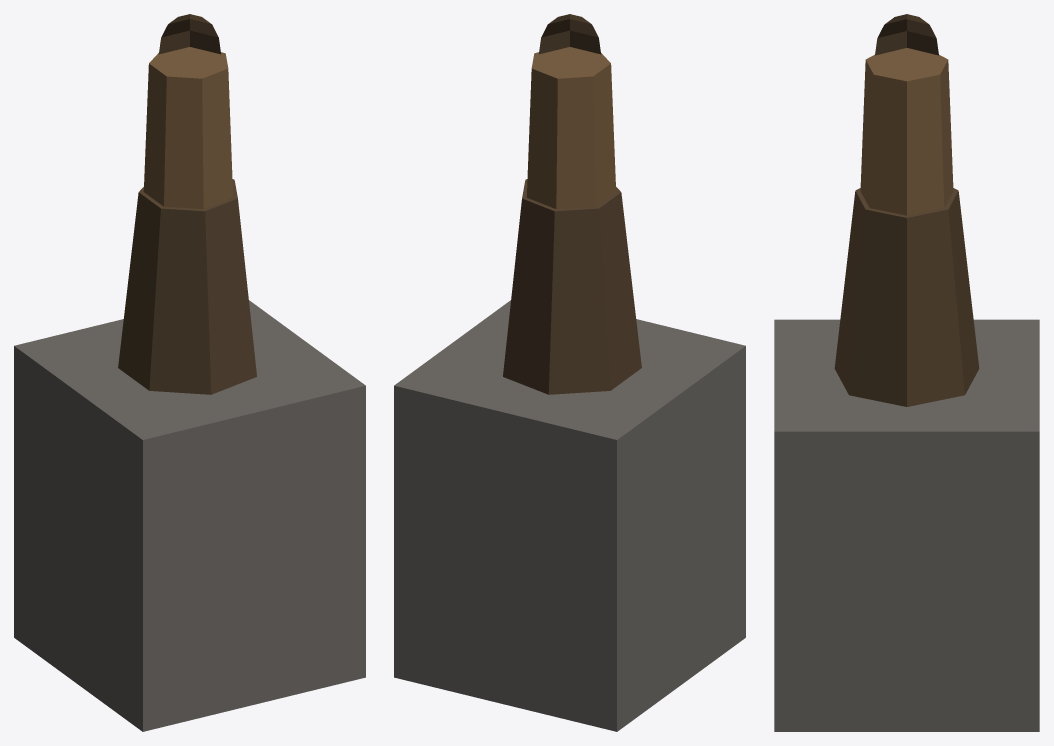
The model's file is annefrank.glb.
The picture shows the model from 3 angles, left to right: view 1: azimuth 30°, elevation 25°; view 2: azimuth 150°, elevation 25°; view 3: azimuth 270°, elevation 25°; orthographic projection. The views are drawn at different scales.
Parts seen in each view (by area): view 1: annefrank_lod0; view 2: annefrank_lod0; view 3: annefrank_lod0.
Part boxes in pixels (left/top/right/bottom): annefrank_lod0: left=14, top=14, right=365, bottom=731; annefrank_lod0: left=394, top=14, right=745, bottom=731; annefrank_lod0: left=774, top=14, right=1039, bottom=731.
Size of what is drawn, in the model's own units: 1 by 2.75 by 1.
